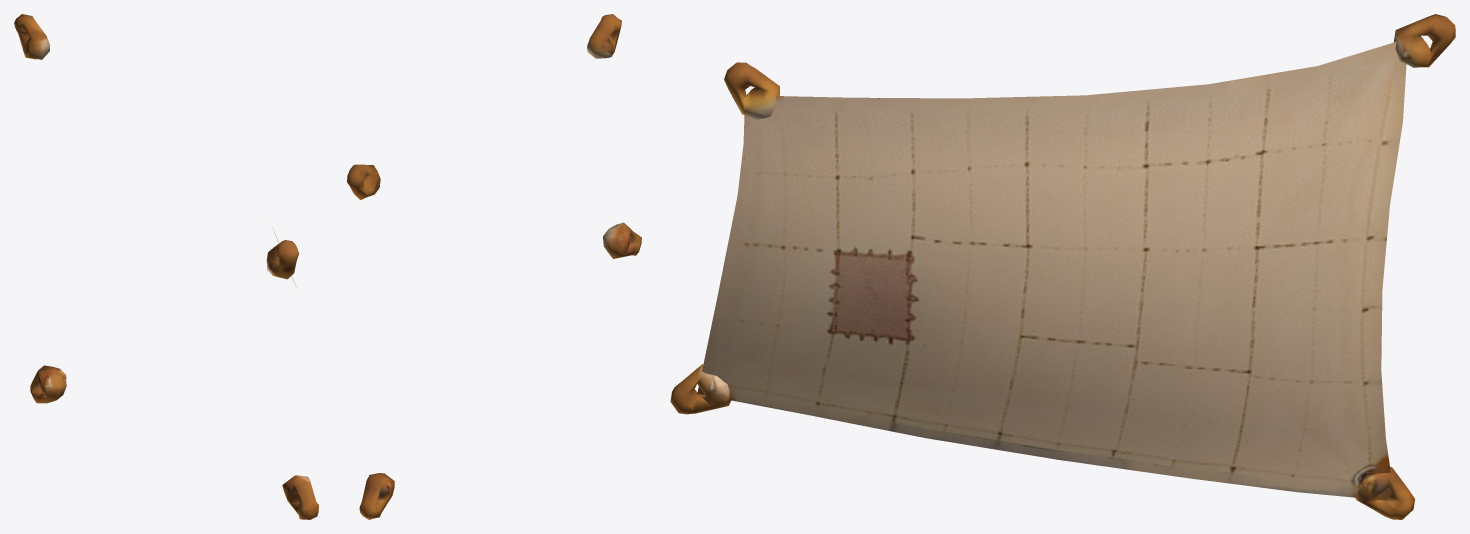
File: sail_spanker.glb
3 views of the same model, side by side, from view 1: azimuth 30°, elevation 25°; view 2: azimuth 150°, elevation 25°; view 3: azimuth 270°, elevation 25° (orthographic). The views are drawn at different scales.
Visible parts, largest first — view 1: sail; view 2: sail; view 3: sail.
Part boxes in pixels (x1=…): sail: x1=14, y1=14, x2=318, y2=519; sail: x1=347, y1=14, x2=641, y2=519; sail: x1=670, y1=14, x2=1455, y2=519.
Bounding box in the file's own units: 0.6958 × 3.03 × 4.3.
1 material, 1 textured.
